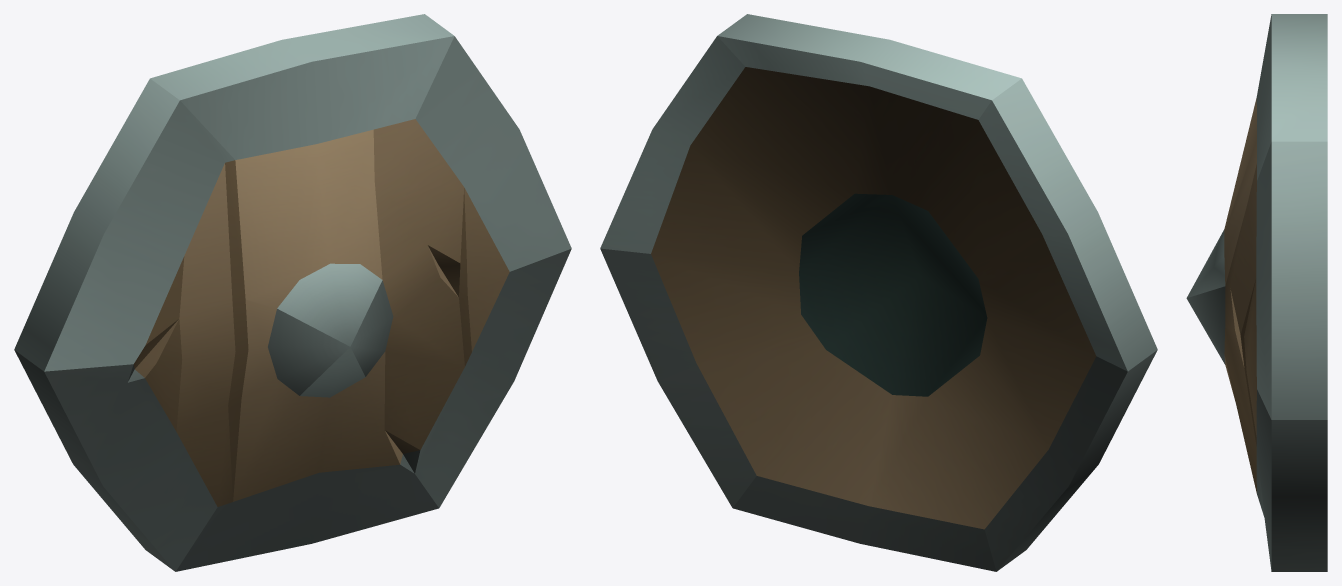
Rendered from orc_shield.fbx.
3 renders of one model, left to right at view 1: azimuth 30°, elevation 25°; view 2: azimuth 150°, elevation 25°; view 3: azimuth 270°, elevation 25°, orthographic. The views are drawn at different scales.
Visible parts, largest first — view 1: orc_shield; view 2: orc_shield; view 3: orc_shield.
Part boxes in pixels (x1,y1,x2,y2): orc_shield: (14,14,571,571); orc_shield: (600,14,1157,571); orc_shield: (1186,14,1327,571).
Bounding box in the file's own units: 151 × 132 × 37.46.
